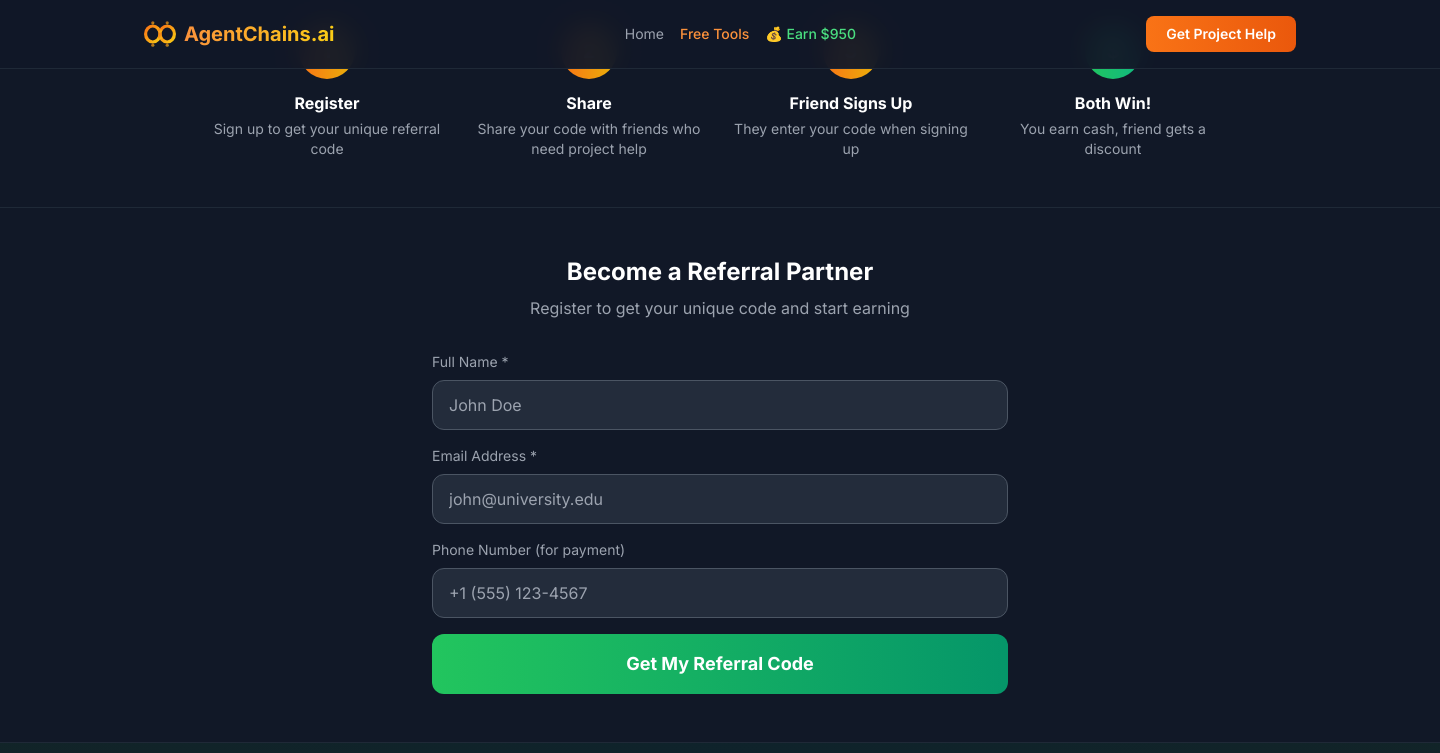
Test: Referral Page › Registration Form › shows success code after registration
(page scrolled)
Step 1. Type "Test User" into the field with placeholder "John Doe" → (720, 405), box [432, 380, 1008, 430]
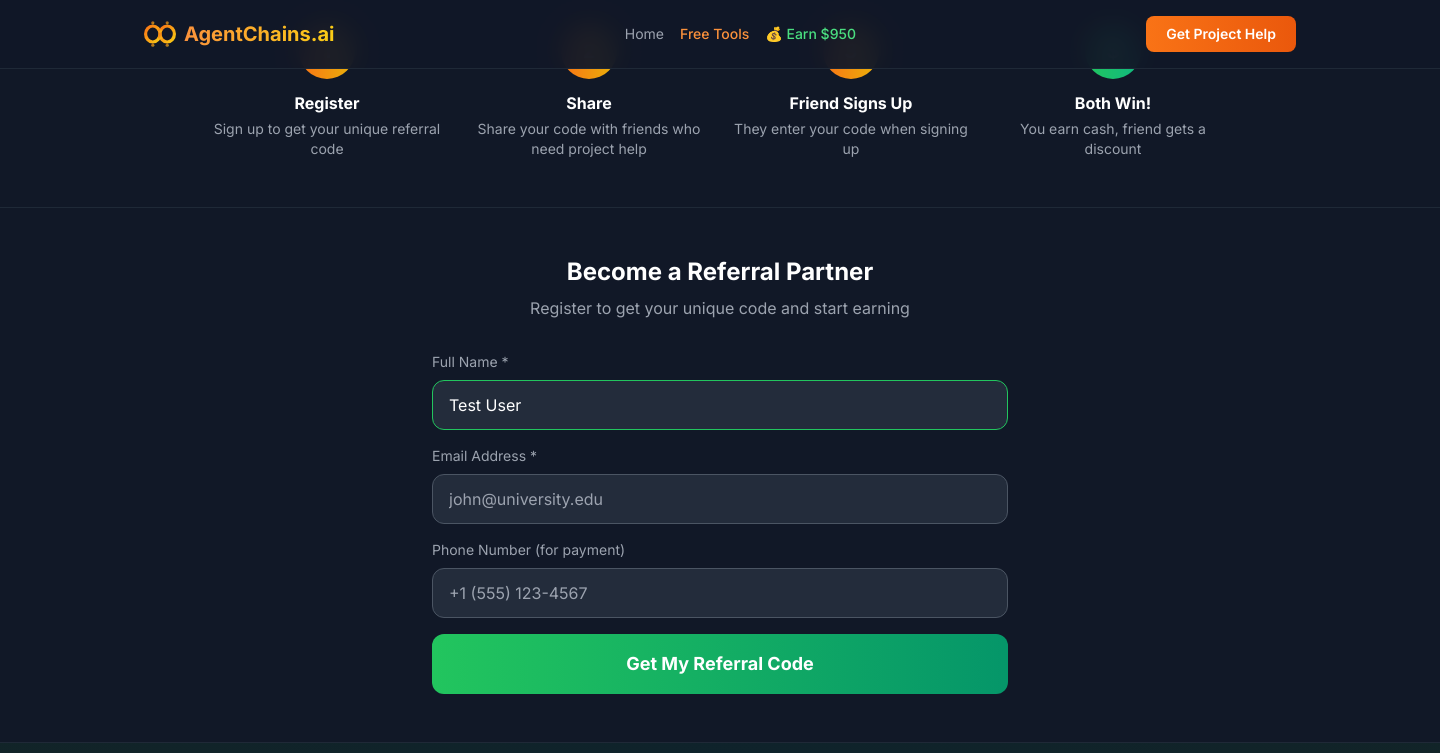
Step 2. Type "test@test.com" into the field with placeholder "john@university.edu" → (720, 499), box [432, 474, 1008, 524]
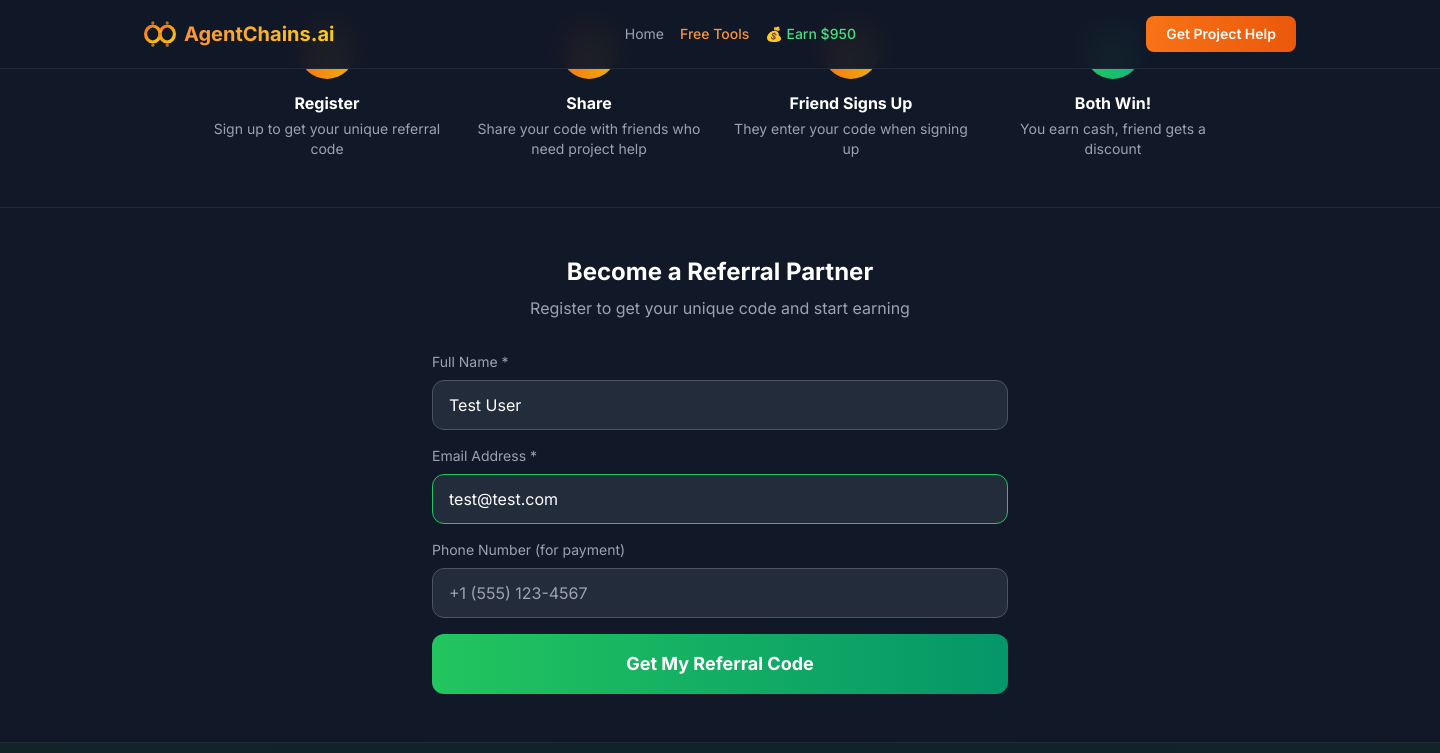
Step 3. Click the button "Get My Referral Code" → (720, 664), box [432, 634, 1008, 694]
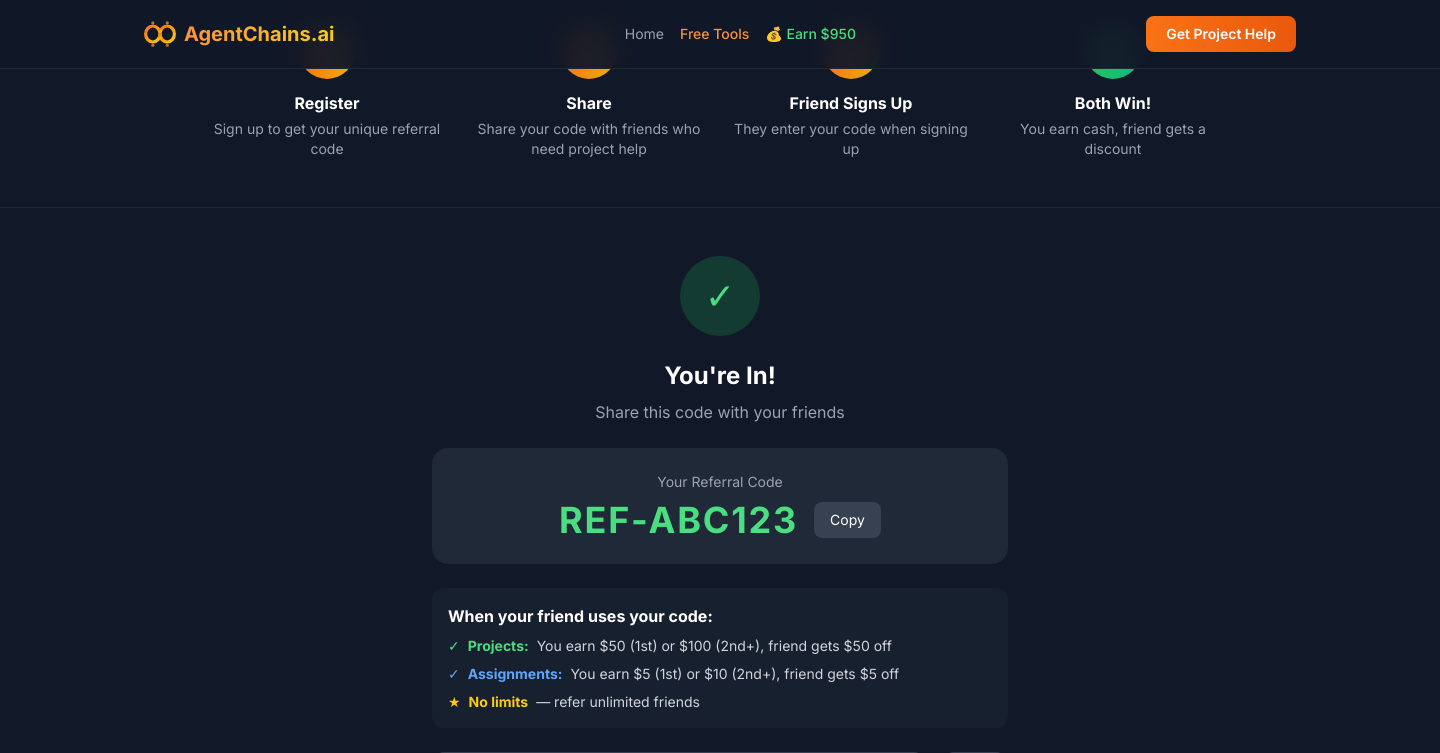
expect the text "REF-ABC123" is shown: met, box [559, 500, 798, 540]
expect the heading "You're In!" is shown: met, box [664, 361, 776, 390]
